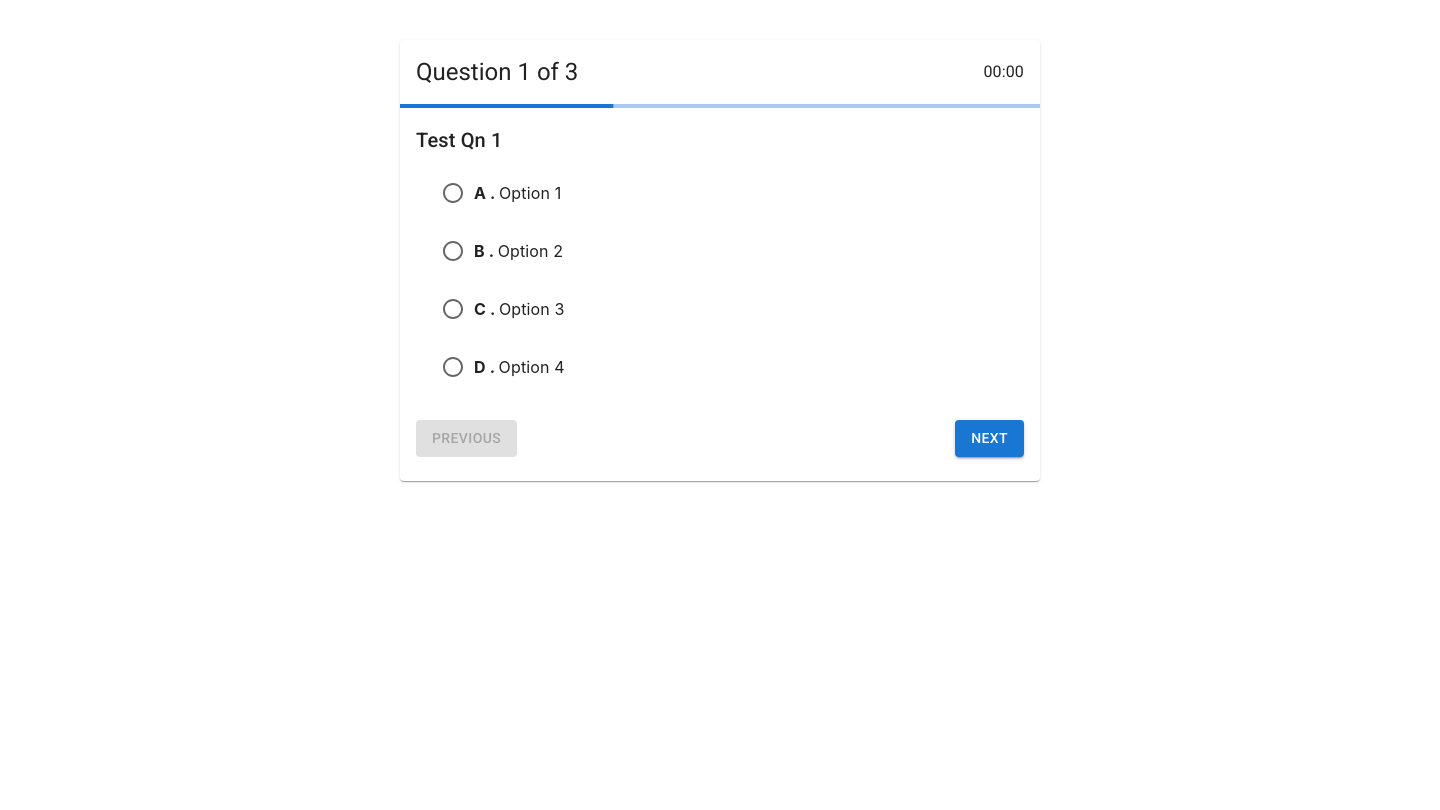
Test: Quiz Component › allows navigation to specific unanswered question from prompt
The image size is (1440, 810).
Expected: the heading "Test Qn 1" is shown, [416, 128, 502, 152]
// Skip to last question without answering
Click the button "Next" at (990, 438), box [955, 420, 1024, 456]
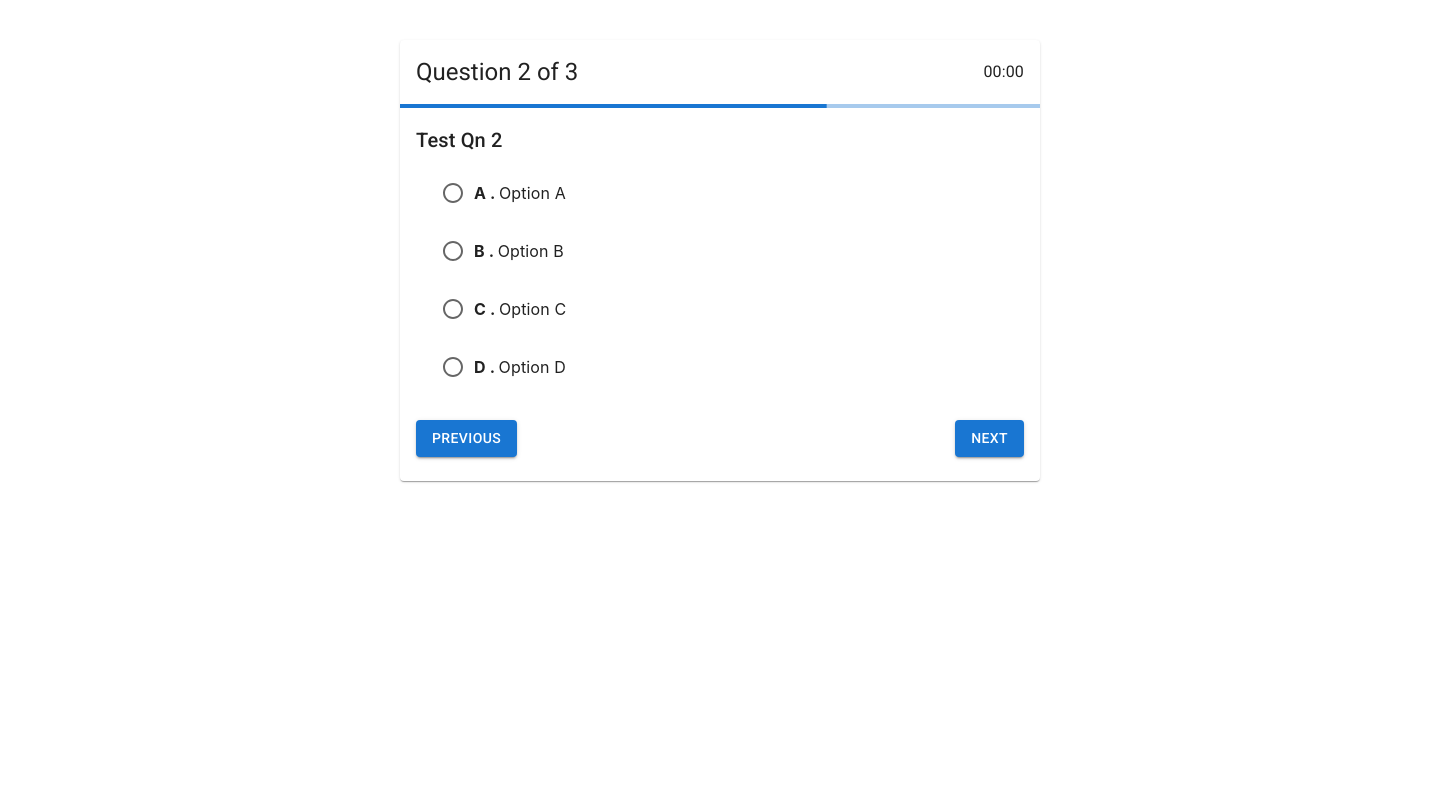
Click the button "Next" at (990, 438), box [955, 420, 1024, 456]
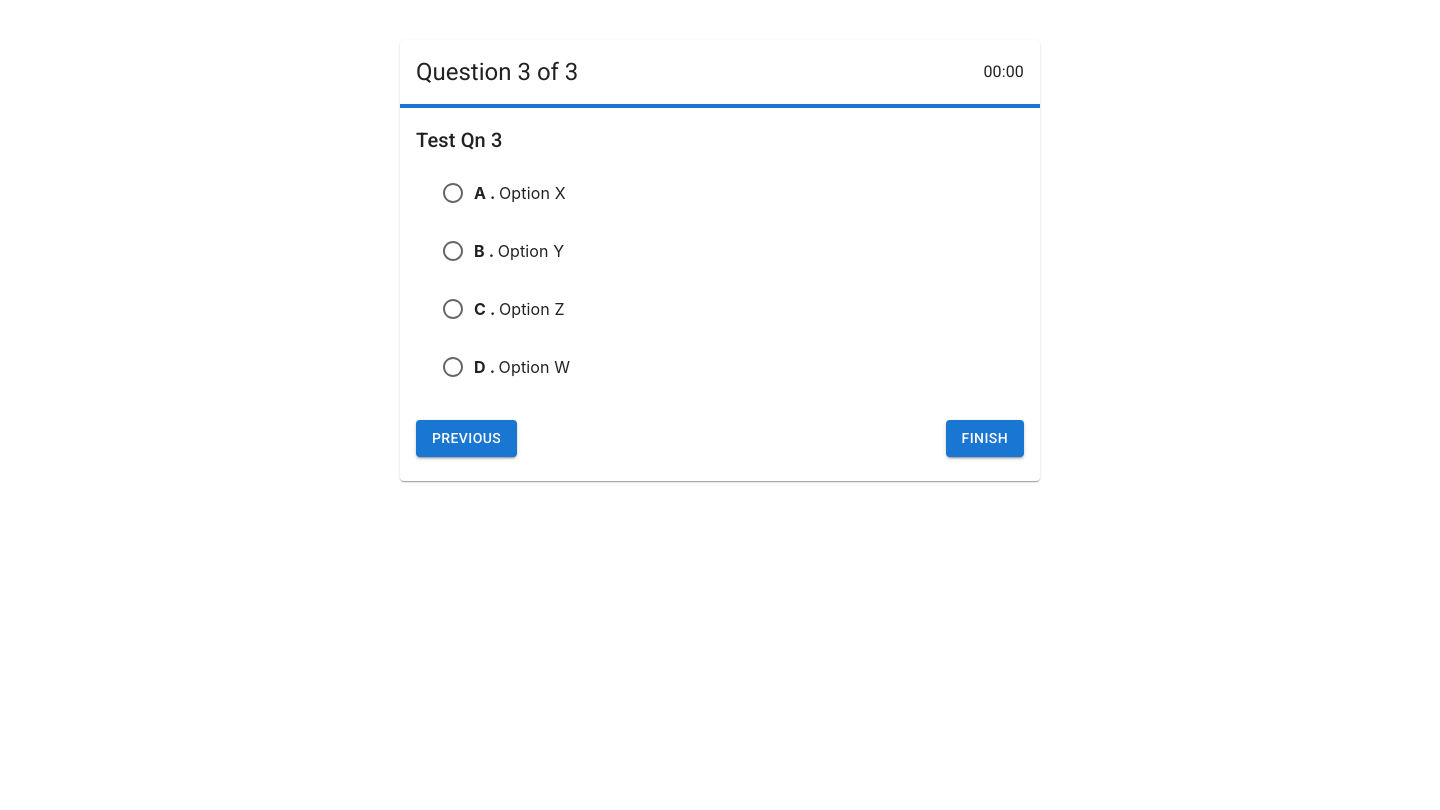
Click the button "Finish" at (985, 438), box [946, 420, 1024, 456]
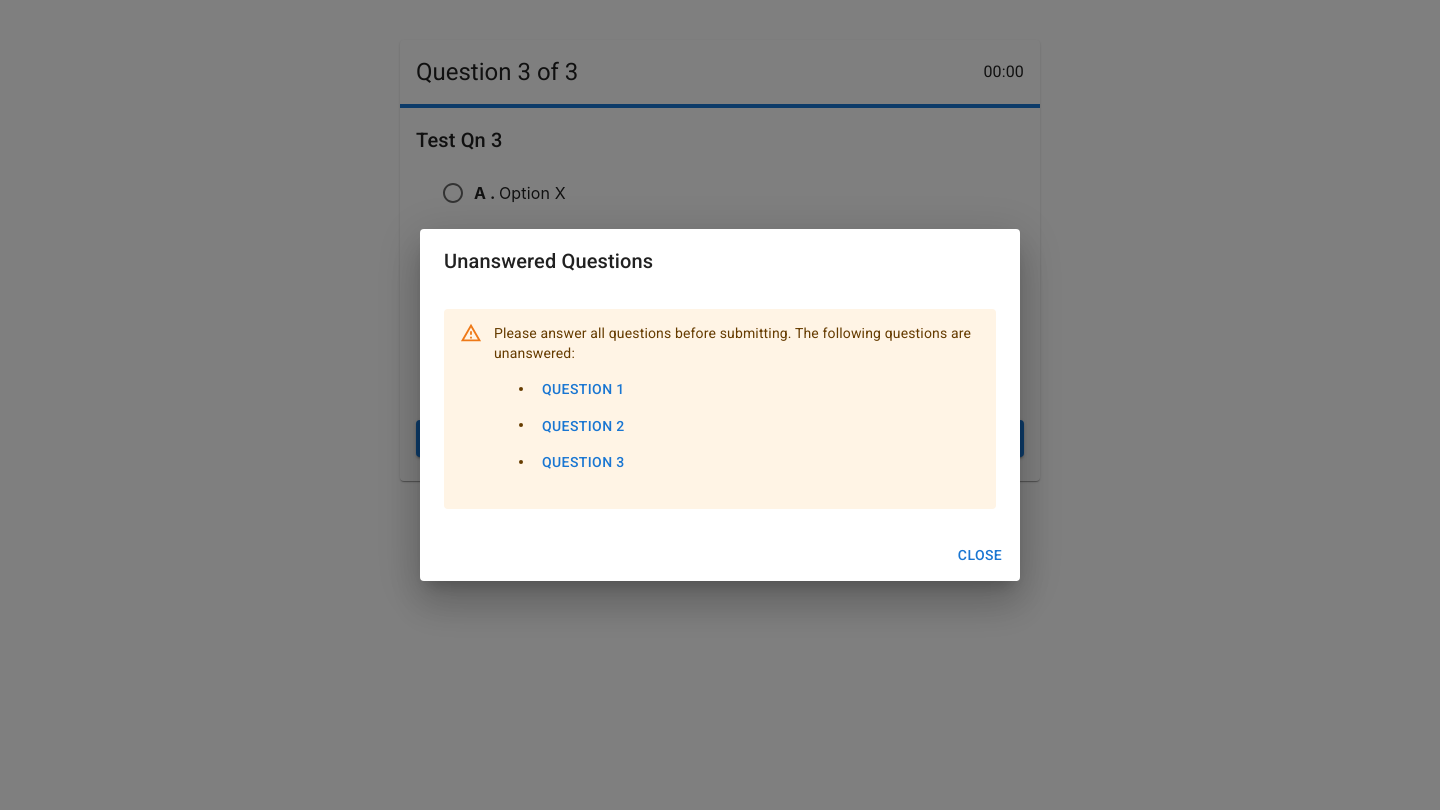
// Click on "Question 1" in the prompt
Click the button "Question 1" at (583, 389), box [534, 371, 633, 408]
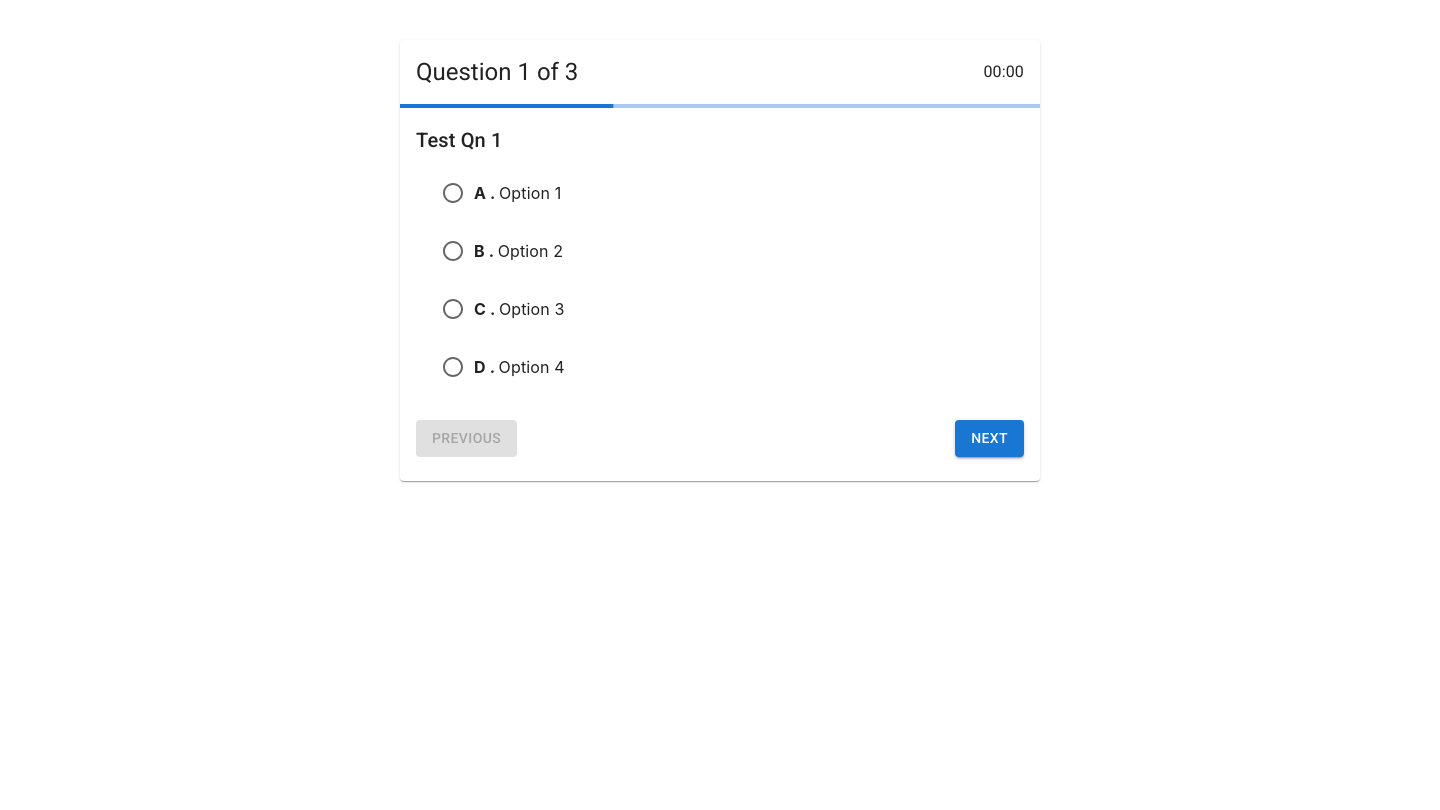
Result: the heading "Test Qn 1" is shown at [416, 128, 502, 152]
Result: the text "Question 1 of 3" is shown at [416, 58, 578, 86]
